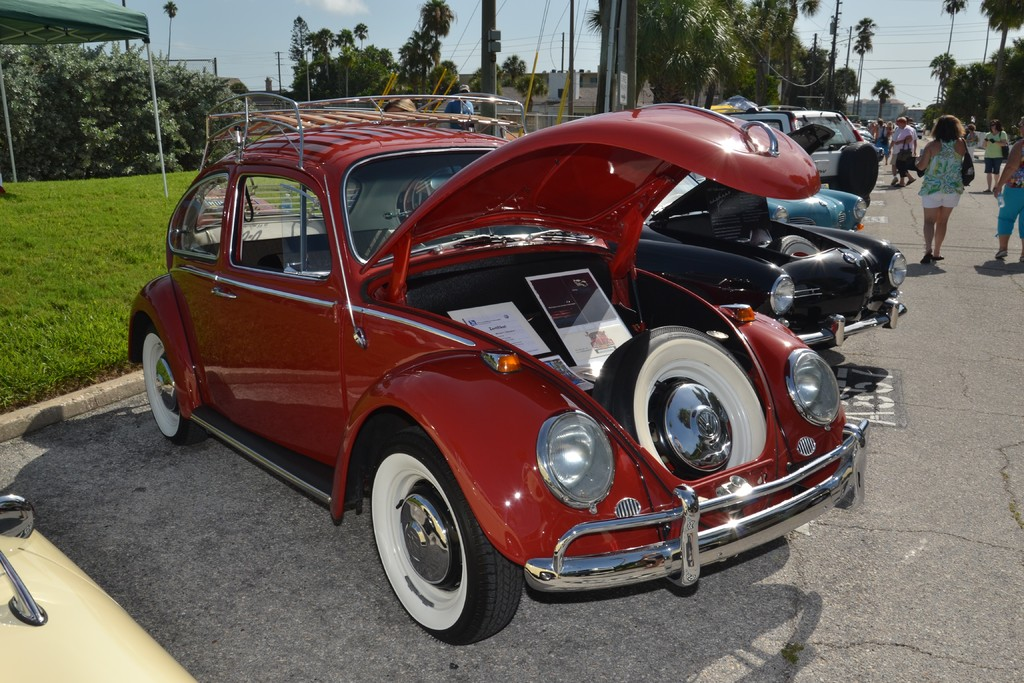mobil: (198, 138, 819, 576)
